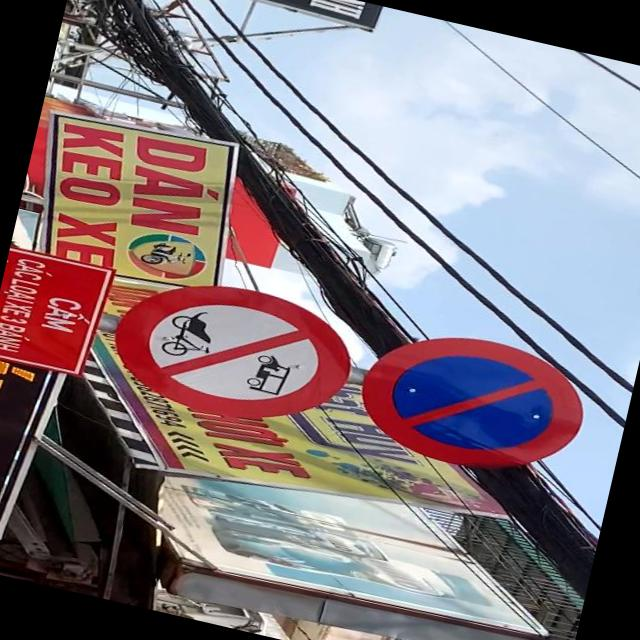P-131a: (346, 314, 594, 488)
